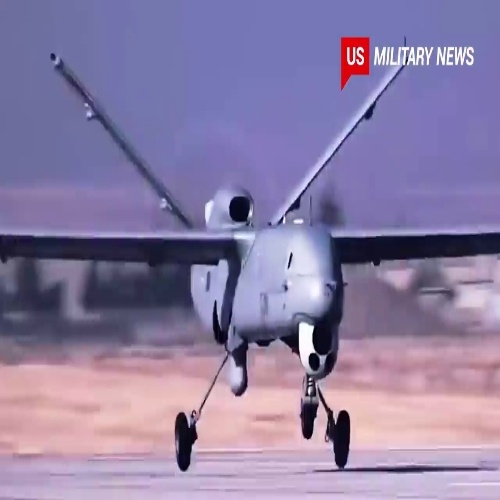uav: (2, 46, 500, 474)
